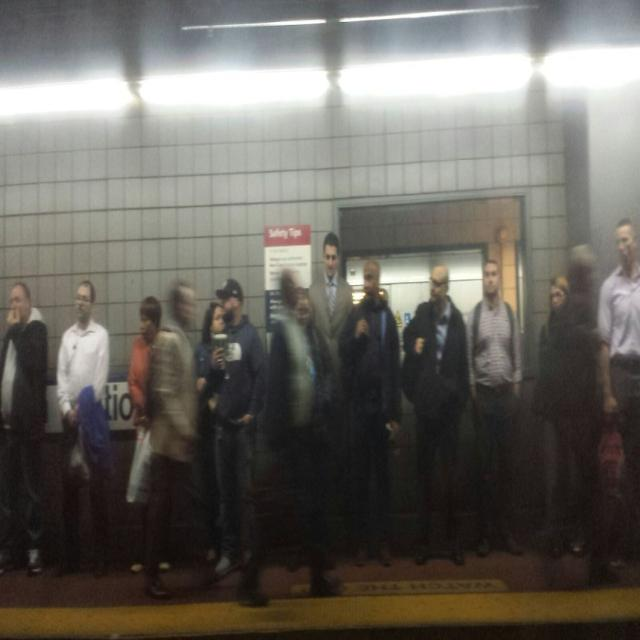body: (140, 276, 212, 602), (400, 262, 470, 567), (336, 257, 404, 569), (201, 275, 267, 580), (54, 278, 121, 573), (267, 264, 329, 575), (464, 256, 525, 559), (550, 240, 606, 559), (0, 279, 49, 579), (538, 270, 586, 560), (125, 296, 172, 571), (596, 215, 640, 498), (292, 288, 336, 564), (193, 300, 227, 564), (306, 231, 354, 376)
